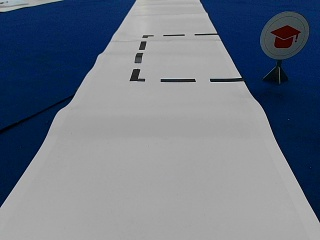school: (260, 11, 308, 59)
